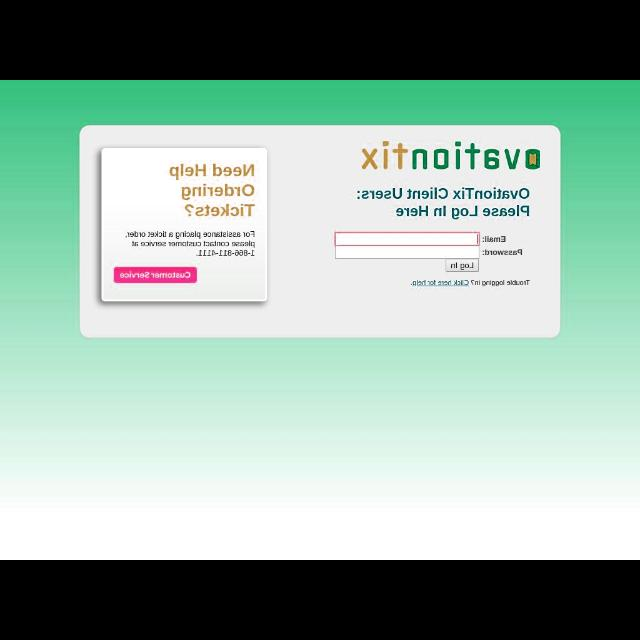image: (360, 140, 540, 172)
input: (334, 232, 480, 246), (334, 247, 480, 259)
link: (409, 280, 468, 288)
panel: (78, 125, 560, 338), (100, 147, 266, 301)
text: (357, 188, 529, 218), (168, 164, 254, 218), (124, 230, 256, 256), (119, 272, 191, 278), (472, 280, 530, 286), (482, 249, 522, 257), (482, 235, 506, 243), (451, 262, 474, 270)
textbutton: (114, 267, 196, 283), (446, 260, 478, 272)
